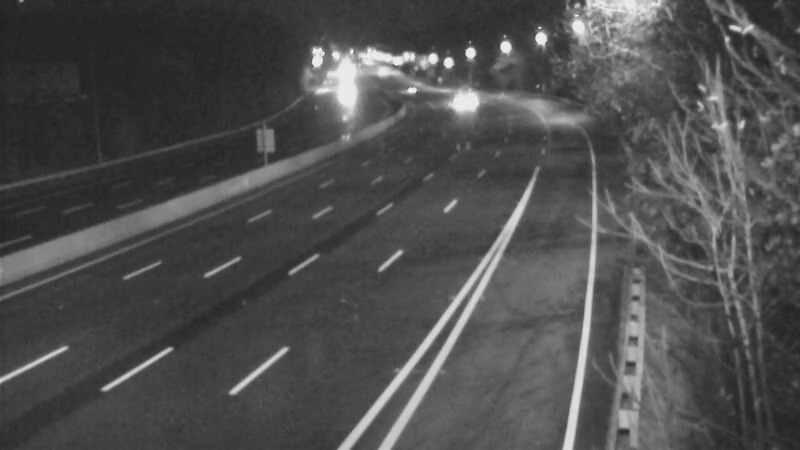vehicle: (381, 61, 431, 111), (436, 73, 486, 123), (318, 67, 368, 117)
